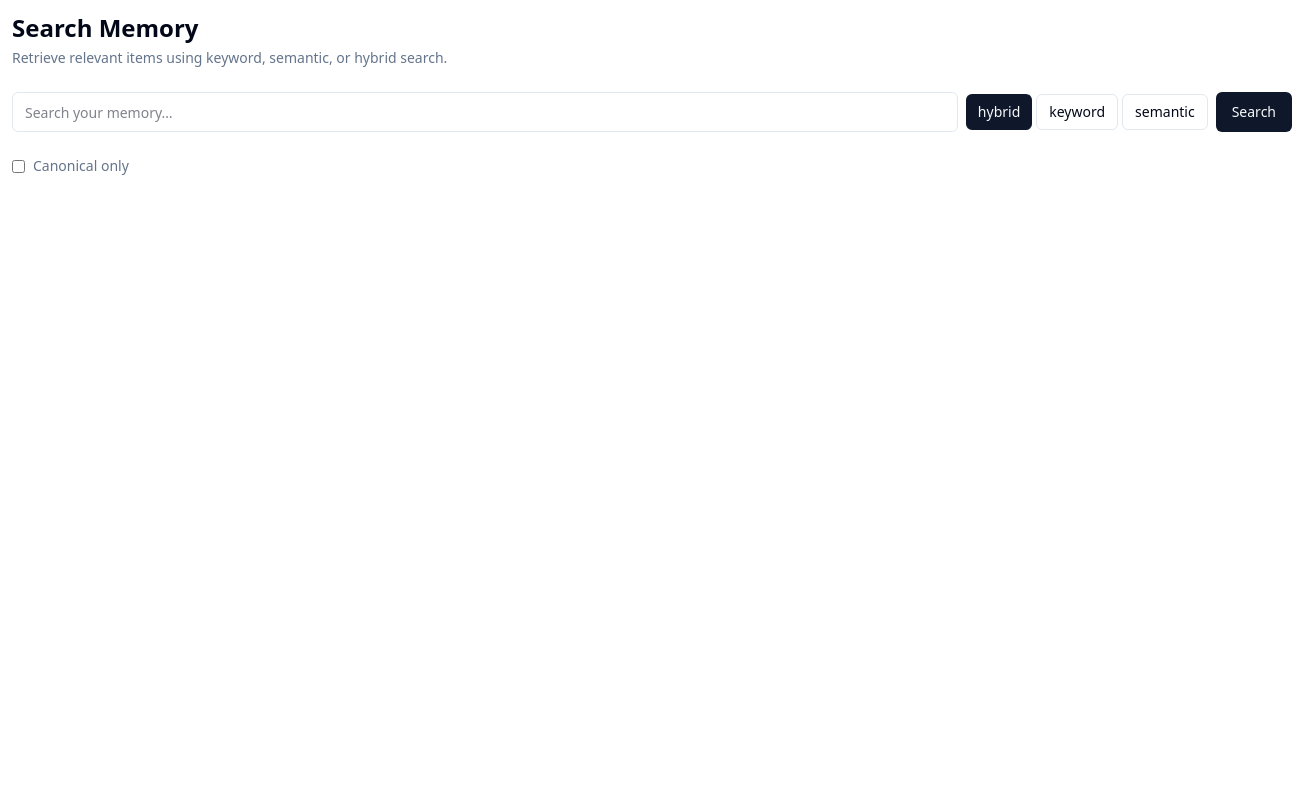
it: SearchPage › bulk-deletes selected fact and canonical results via the correct endpoints
Type "postgres" into the field named "search query".
click(485, 112); type("postgres")  # box [12,92,958,132]
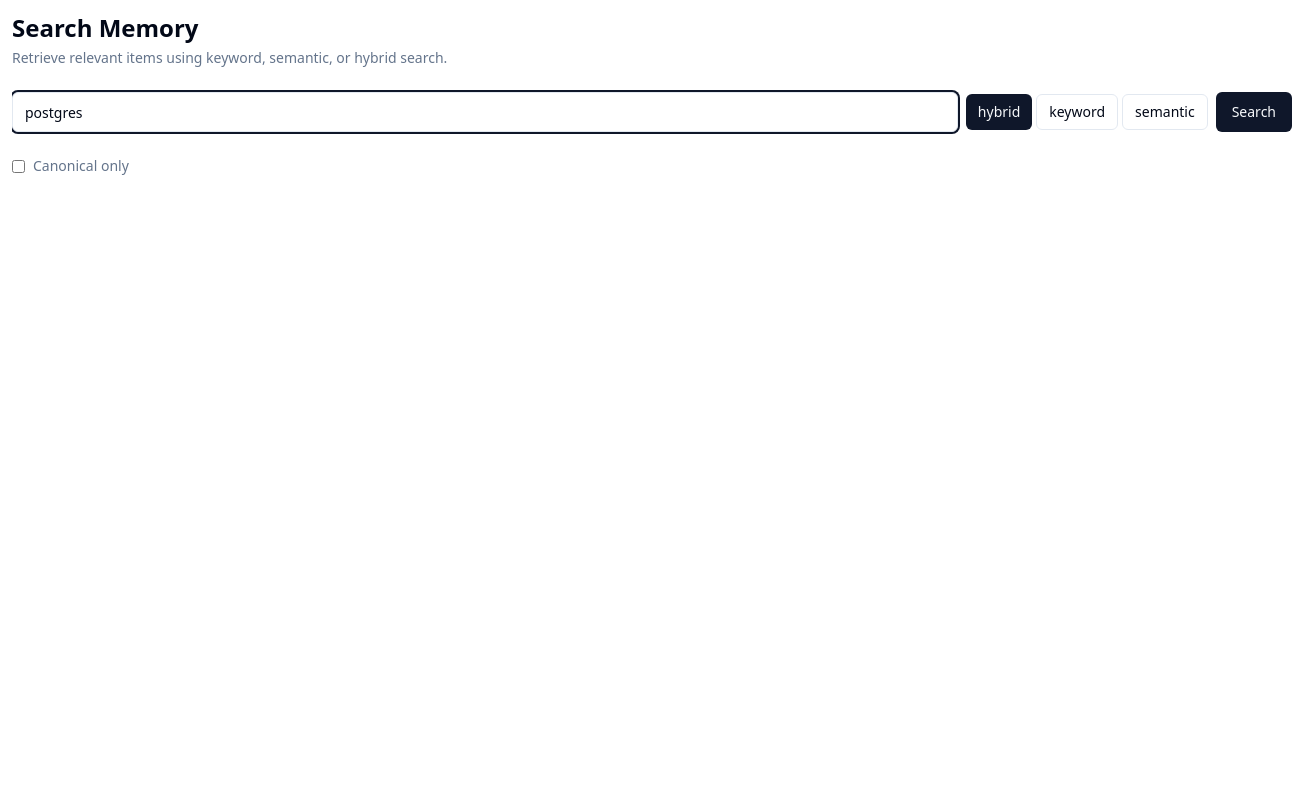
Click the button "Search".
click(1254, 112)  # box [1216,92,1292,132]
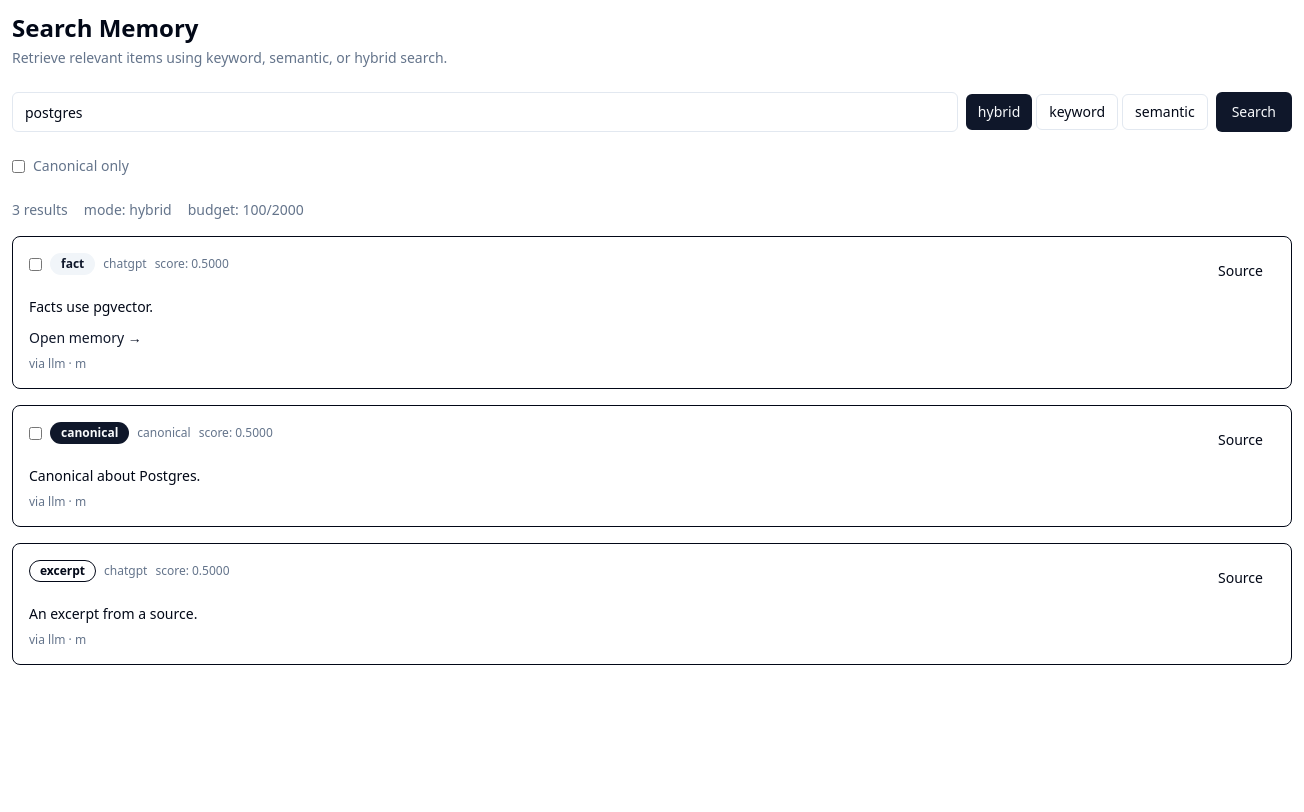
Check: the text "Facts use pgvector." is shown, box [29,297,153,316]
Click the checkbox named "select fact result".
click(36, 264)  # box [29,258,42,270]
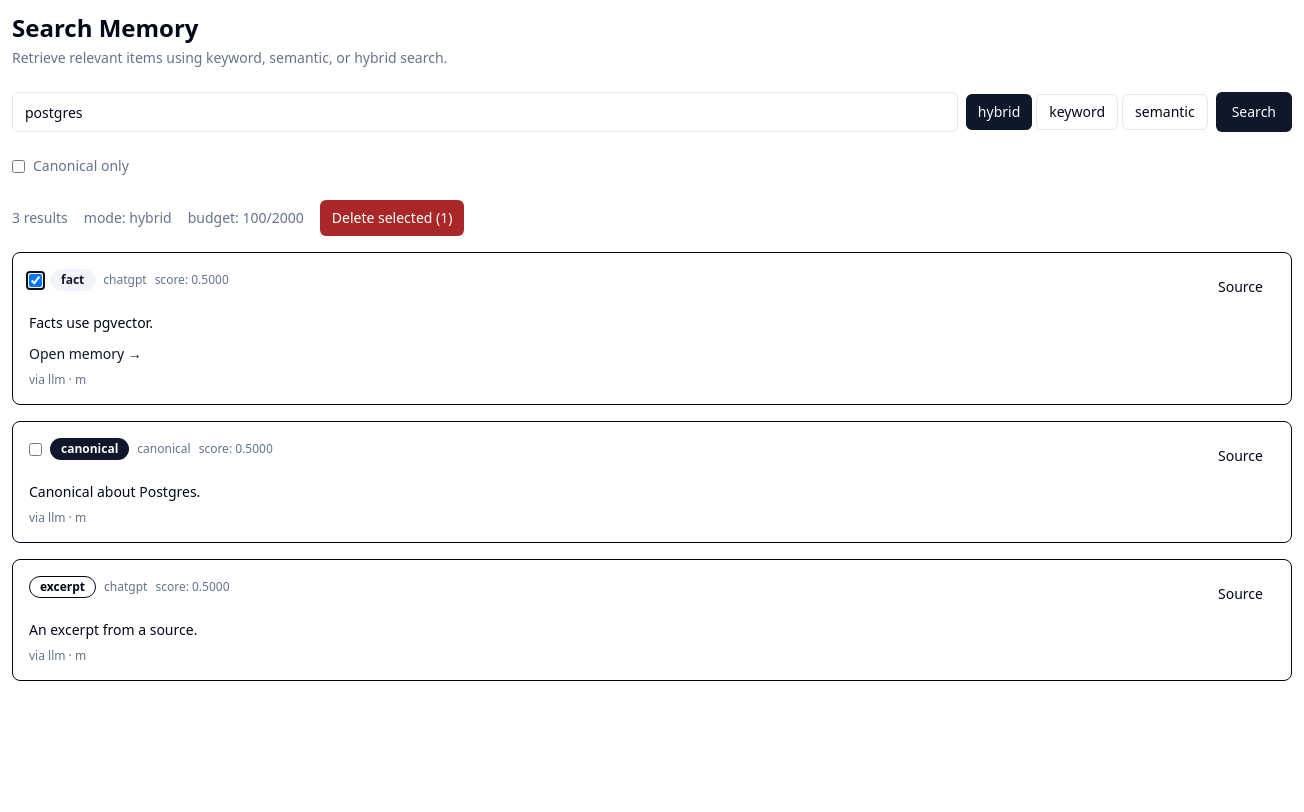
Click the checkbox named "select canonical result".
click(36, 449)  # box [29,442,42,456]
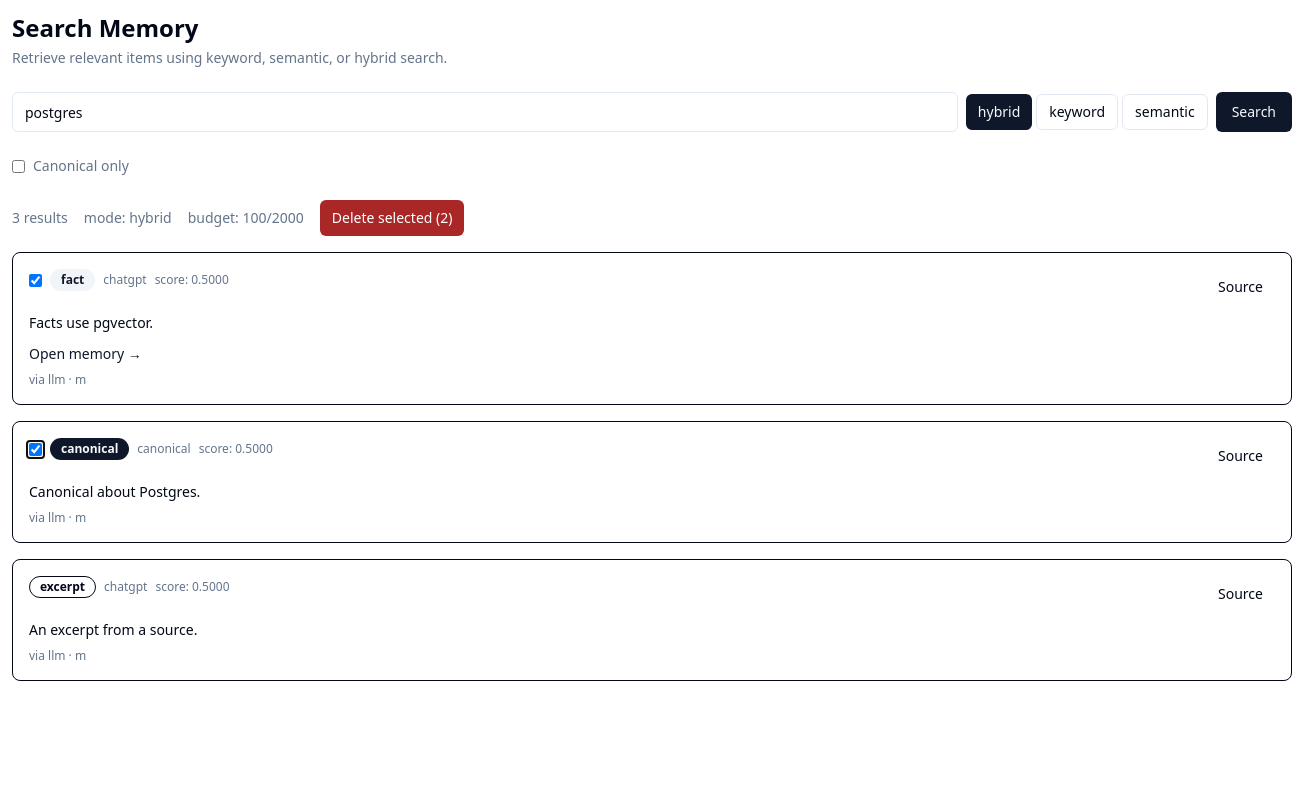
Click the button "Delete selected (2)".
click(392, 218)  # box [320,200,464,236]
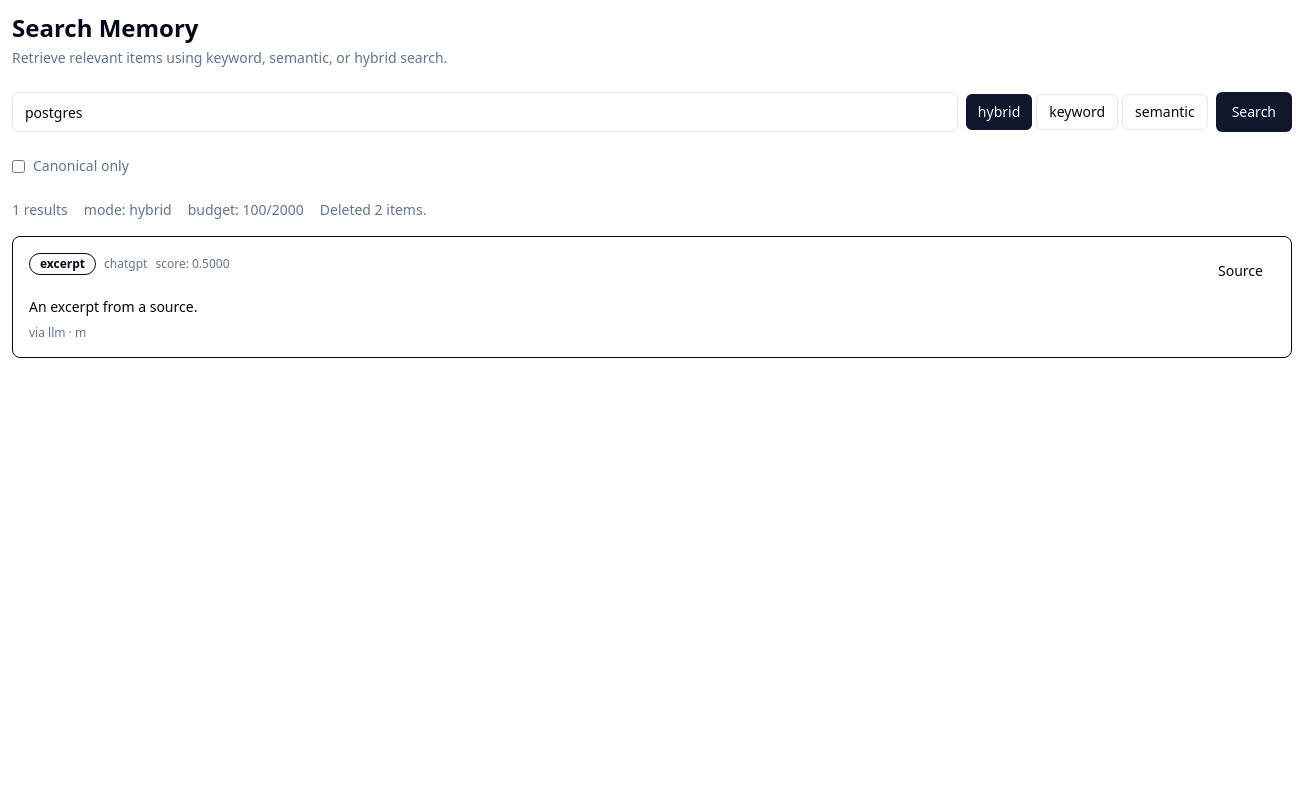
Check: the text "An excerpt from a source." is shown, box [29,297,197,316]
Check: the text "Facts use pgvector." is gone
